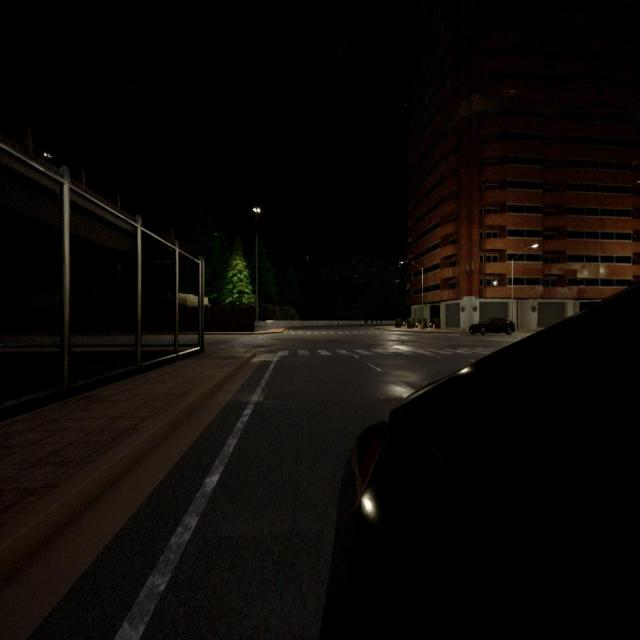Vehicle: (321, 286, 640, 640), (468, 318, 515, 336)
